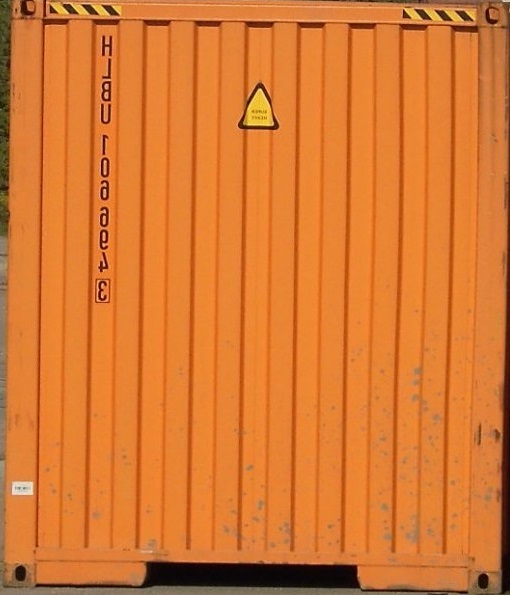container_no_door: (12, 1, 503, 593)
